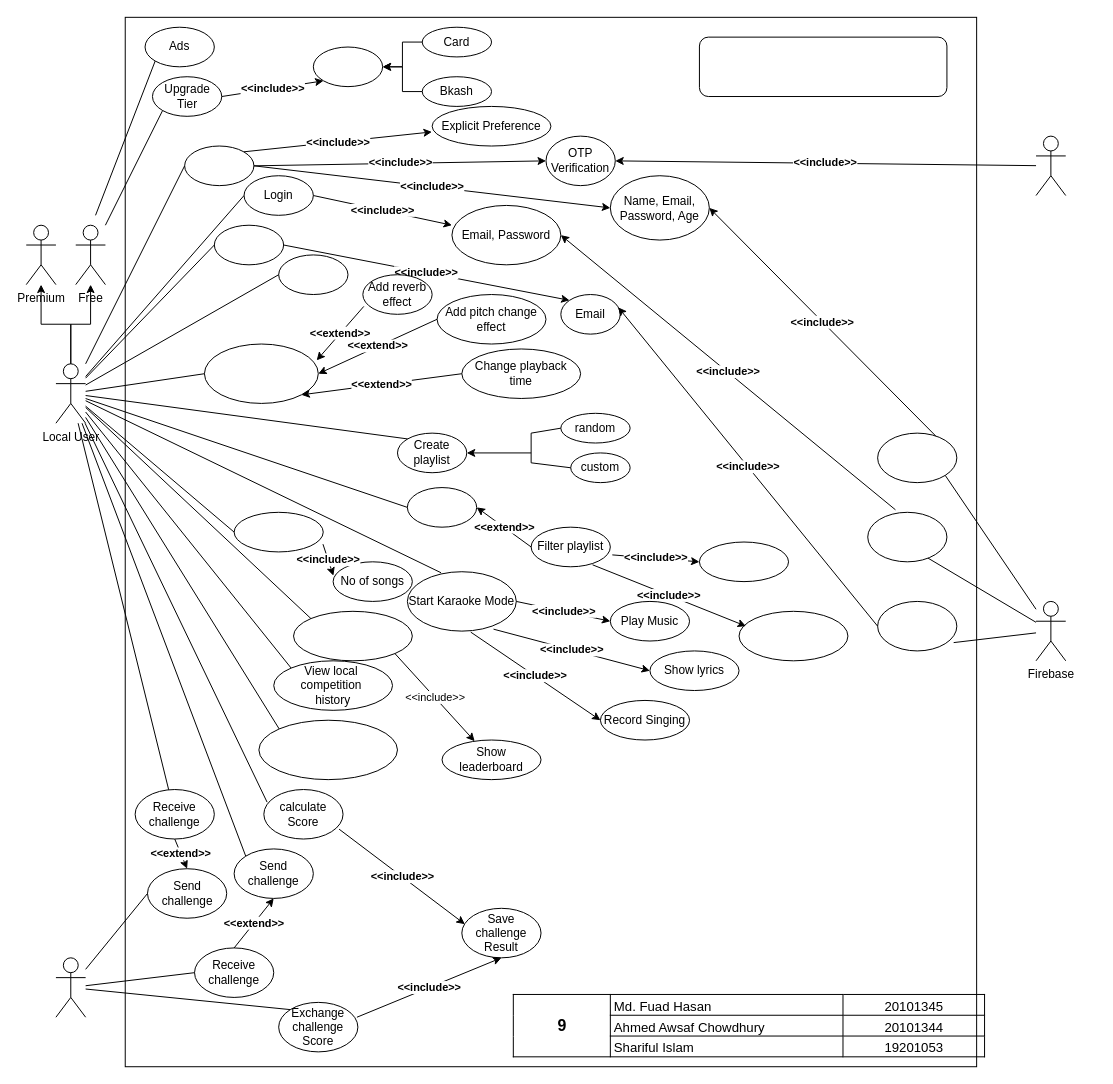
This 1113x1084 diagram has some shape labels left out. Each missing label, with the centre of its shape:
Authenticate login: the point at 907,536
Create competetion: the point at 278,531
Create User: the point at 917,457
Email Verification Service: the point at 1050,165
Explicit Toggle: the point at 743,561
Genre, Artist, Publish Date Selection: the point at 793,635
Participate in local competition: the point at 352,635
Payment: the point at 347,66
Record Song: the point at 260,373
Remote User: the point at 70,987
Reset Password: the point at 248,244
Send Reset Email: the point at 917,625
Set favorite genre: the point at 313,274
Sign Up: the point at 219,165
Use Case Diagram: the point at 822,66
View challenge records: the point at 327,749
View saved playlists: the point at 441,507
